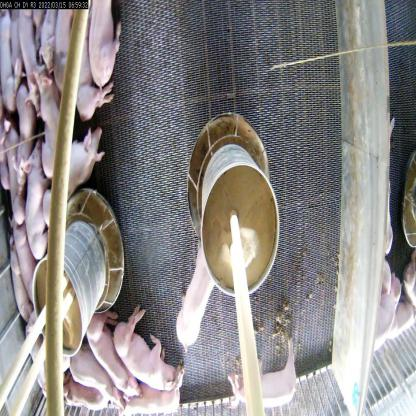Pig: (43, 122, 120, 231), (214, 329, 308, 415), (112, 310, 188, 398), (173, 241, 229, 350), (82, 300, 138, 401), (64, 5, 110, 114), (31, 63, 72, 176), (12, 206, 46, 312), (83, 0, 124, 87), (22, 125, 48, 256), (10, 73, 29, 198), (64, 342, 110, 389)
